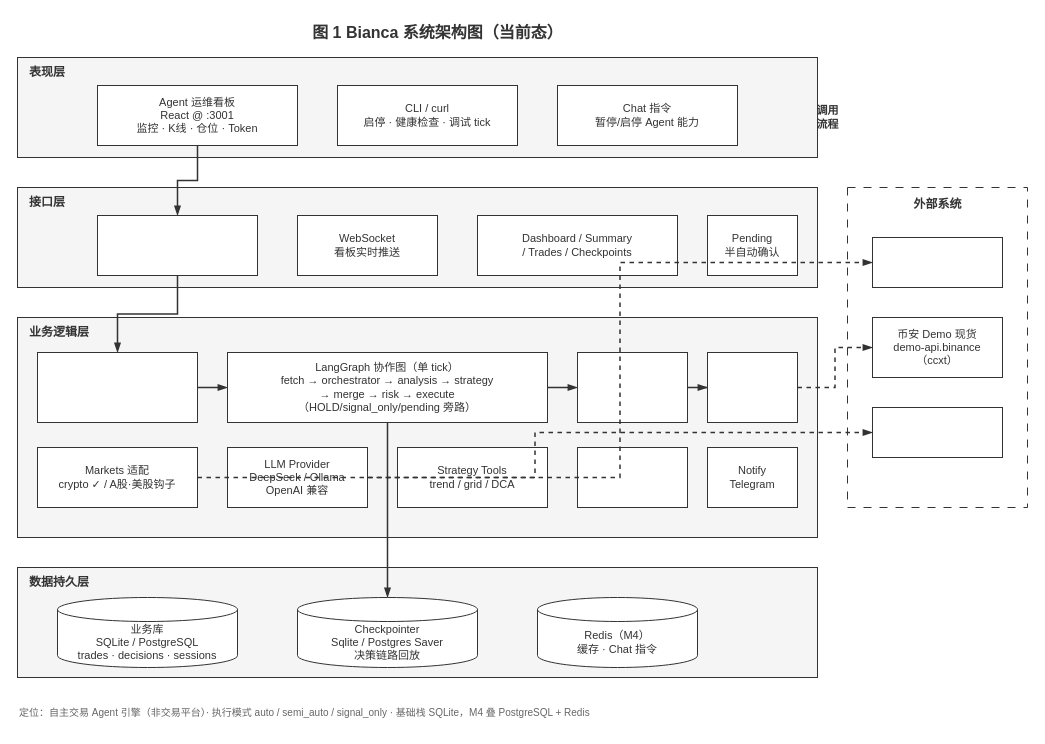
This 1045x744 diagram has some shape labels left out. Here are the shapes that lost their labels. From the top down, the centre of each, then its label:
At point (177, 245): "FastAPI /api/v1/* REST @ :8000".
At point (937, 262): "DeepSeek API / Ollama".
At point (117, 387): "AgentRunner 24×7 多 symbol 并行 失败自动降级 semi_auto".
At point (632, 387): "Risk Engine 风控必经 不可旁路".
At point (752, 387): "Execute 下单执行".
At point (937, 432): "行情流 Ticker / K线".
At point (632, 477): "Confirmation 半自动人工确认".
